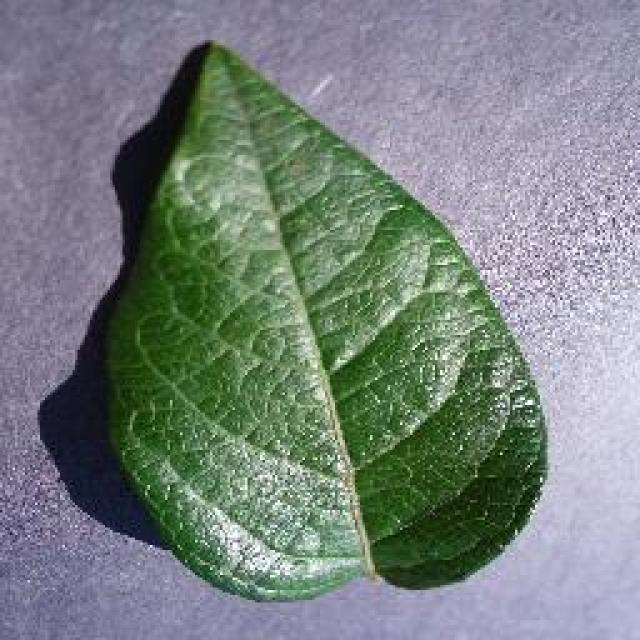Blu_healthy: (125, 155, 506, 487)
